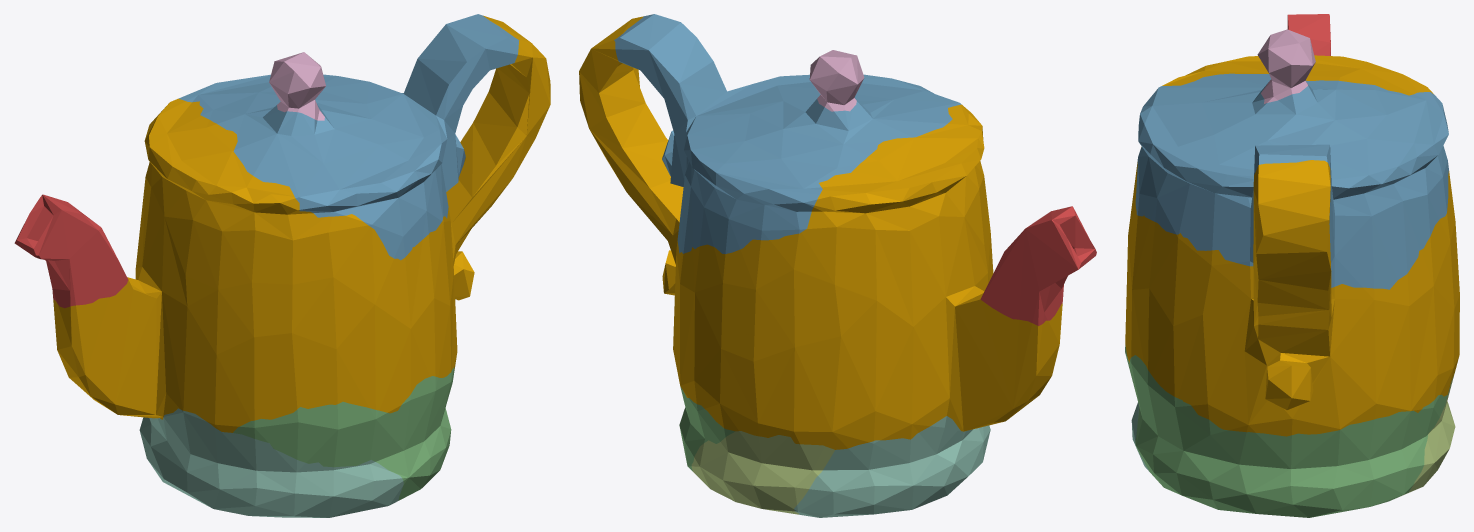
Rendered from mode_8_8pcs.glb.
3 views of the same model, side by side, from view 1: azimuth 30°, elevation 25°; view 2: azimuth 150°, elevation 25°; view 3: azimuth 270°, elevation 25° (orthographic). The views are drawn at different scales.
Parts seen in each view (by area): view 1: piece_0.obj, piece_2.obj, piece_4.obj, piece_3.obj, piece_1.obj, piece_6.obj; view 2: piece_0.obj, piece_2.obj, piece_4.obj, piece_1.obj, piece_5.obj, piece_6.obj, piece_3.obj; view 3: piece_0.obj, piece_2.obj, piece_3.obj, piece_6.obj, piece_5.obj, piece_1.obj.
Boxes of the visible parts, bbox=[...] form: piece_0.obj: bbox=[53, 15, 550, 432]; piece_2.obj: bbox=[179, 14, 519, 260]; piece_4.obj: bbox=[139, 408, 403, 517]; piece_3.obj: bbox=[233, 367, 454, 500]; piece_1.obj: bbox=[14, 194, 128, 308]; piece_6.obj: bbox=[269, 52, 325, 120]; piece_0.obj: bbox=[579, 16, 1062, 449]; piece_2.obj: bbox=[614, 14, 961, 254]; piece_4.obj: bbox=[794, 416, 990, 517]; piece_1.obj: bbox=[980, 206, 1096, 325]; piece_5.obj: bbox=[691, 431, 834, 514]; piece_6.obj: bbox=[809, 50, 864, 111]; piece_3.obj: bbox=[679, 386, 735, 471]; piece_0.obj: bbox=[1125, 55, 1459, 436]; piece_2.obj: bbox=[1135, 73, 1448, 289]; piece_3.obj: bbox=[1125, 345, 1448, 517]; piece_6.obj: bbox=[1257, 29, 1315, 103]; piece_5.obj: bbox=[1400, 372, 1455, 496]; piece_1.obj: bbox=[1287, 14, 1330, 55].
Size of the model in its own units: 1 by 0.7646 by 0.5538.
